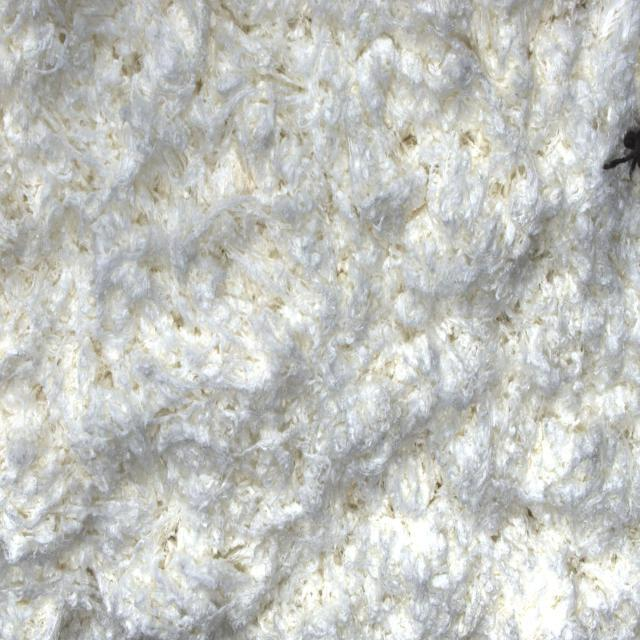dust: (599, 123, 640, 184)
